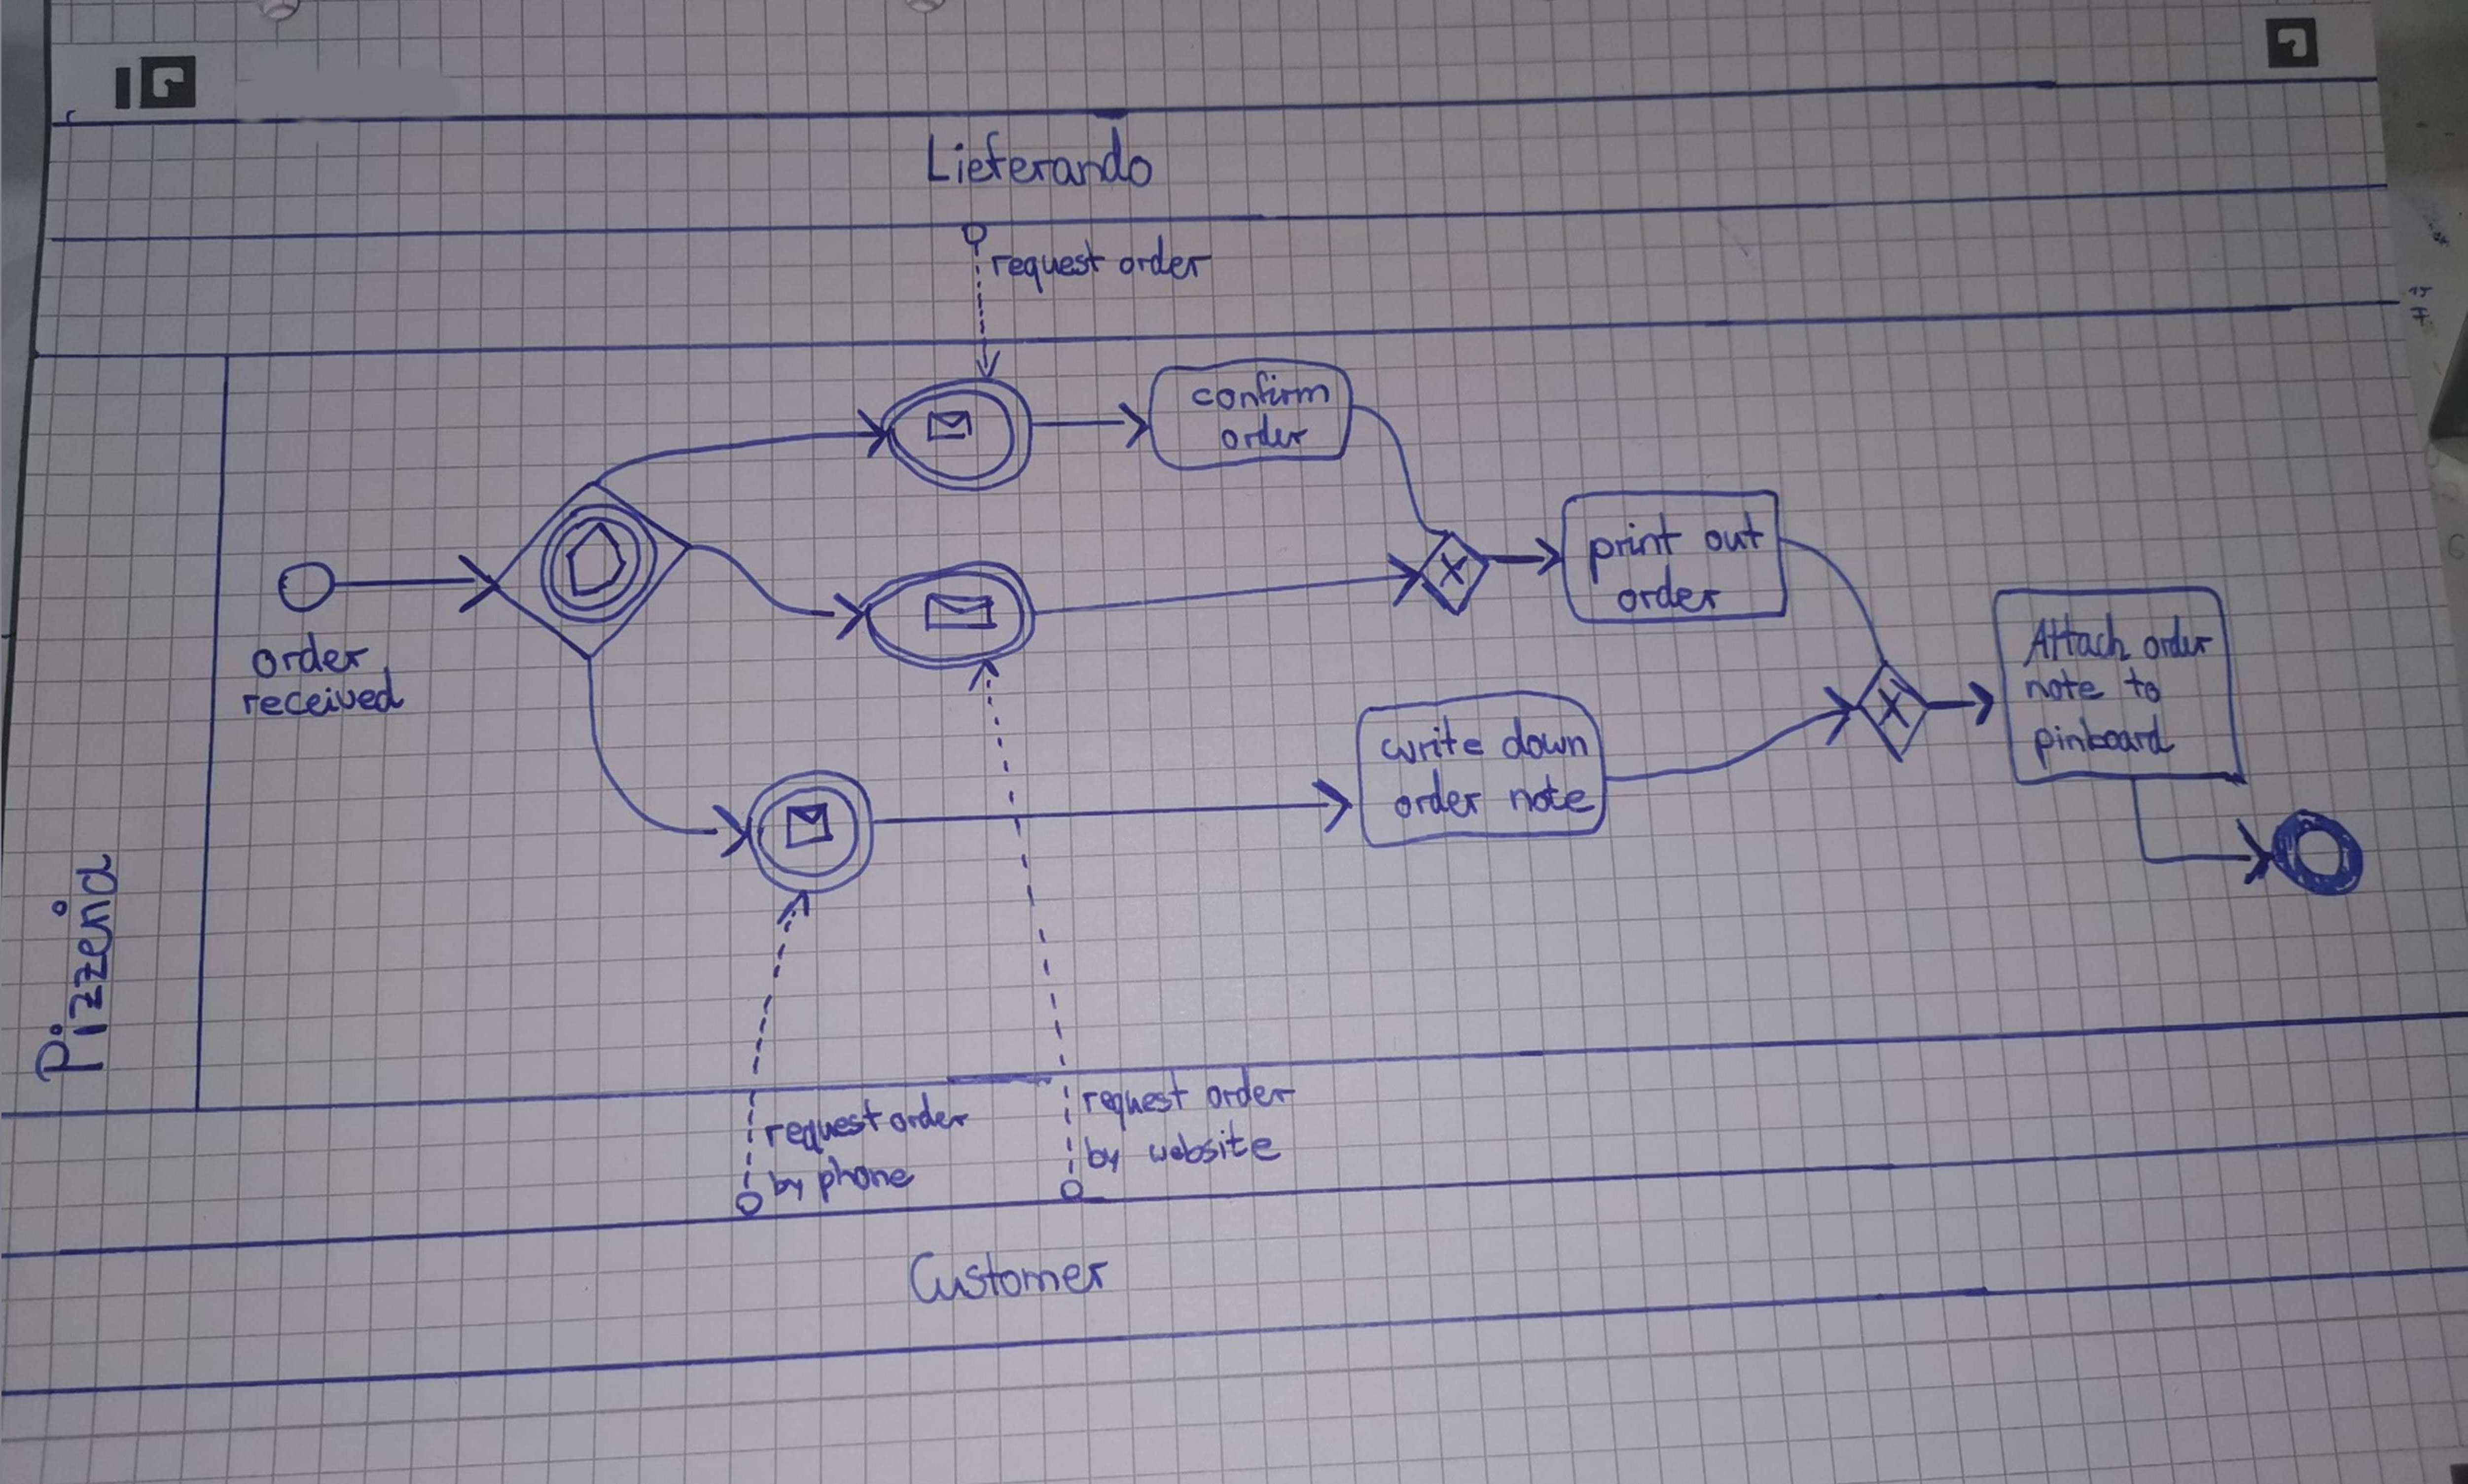Attach: (2020, 610, 2133, 668)
Customer: (906, 1243, 1112, 1308)
Lieferando: (922, 122, 1156, 192)
Pizzeria: (19, 853, 167, 1084)
by: (765, 1160, 807, 1211), (1084, 1133, 1123, 1179)
confirm: (1190, 367, 1333, 412)
down: (1498, 714, 1594, 763)
note: (1505, 772, 1595, 820), (2022, 668, 2108, 705)
order: (249, 627, 370, 682), (1613, 560, 1724, 615), (1391, 767, 1498, 823), (1116, 233, 1211, 282), (887, 1091, 973, 1142), (1204, 1066, 1299, 1110), (2140, 613, 2218, 663), (1220, 411, 1310, 453)
out: (1701, 508, 1766, 557)
phone: (814, 1154, 915, 1206)
pinboard: (2029, 712, 2177, 772)
print: (1587, 509, 1685, 585)
received: (238, 668, 409, 721)
request: (1075, 1072, 1195, 1133), (755, 1096, 881, 1154), (987, 238, 1111, 296)
to: (2122, 664, 2165, 707)
website: (1148, 1117, 1283, 1172)
write: (1379, 712, 1500, 768)
